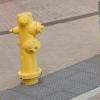a fire hydrant: (11, 11, 43, 81)
